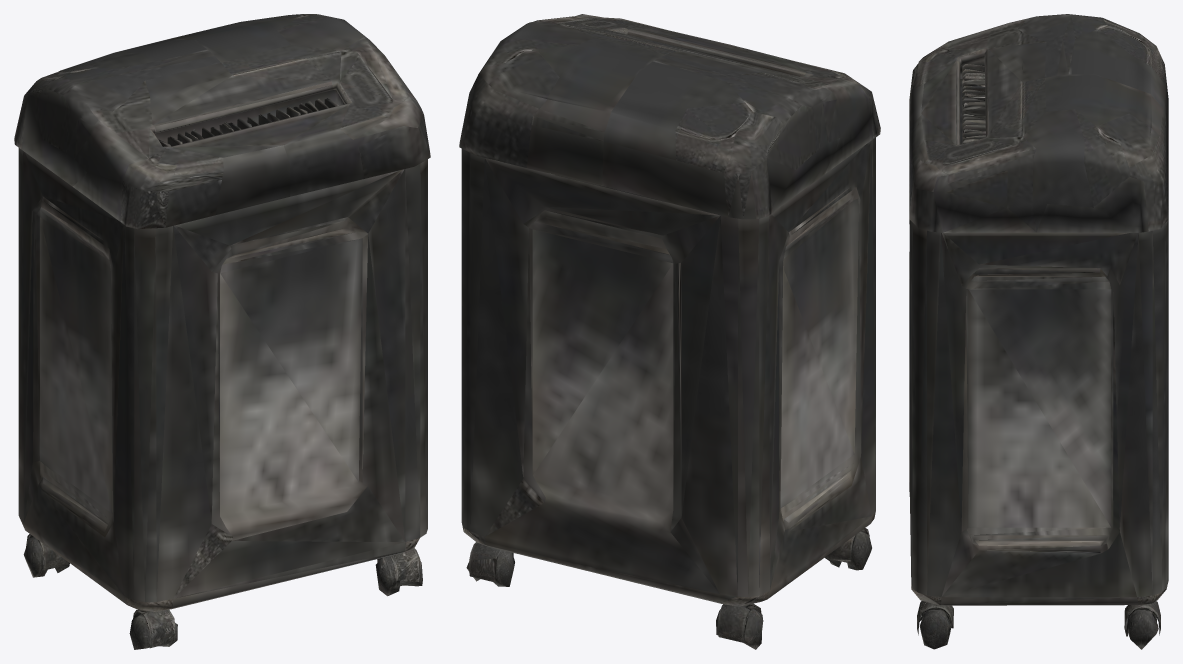
File: p7-paper-shredder-t25.glb
The picture shows the model from 3 angles, left to right: view 1: azimuth 30°, elevation 25°; view 2: azimuth 150°, elevation 25°; view 3: azimuth 270°, elevation 25°; orthographic projection. The views are drawn at different scales.
Visible parts, largest first — view 1: p7-paper-shredder-t25; view 2: p7-paper-shredder-t25; view 3: p7-paper-shredder-t25.
Part boxes in pixels (<box>): p7-paper-shredder-t25: <box>14,14,430,649</box>; p7-paper-shredder-t25: <box>459,14,880,649</box>; p7-paper-shredder-t25: <box>909,14,1168,649</box>.
Bounding box in the file's own units: 0.4 × 0.65 × 0.3.
1 material, 1 textured.
